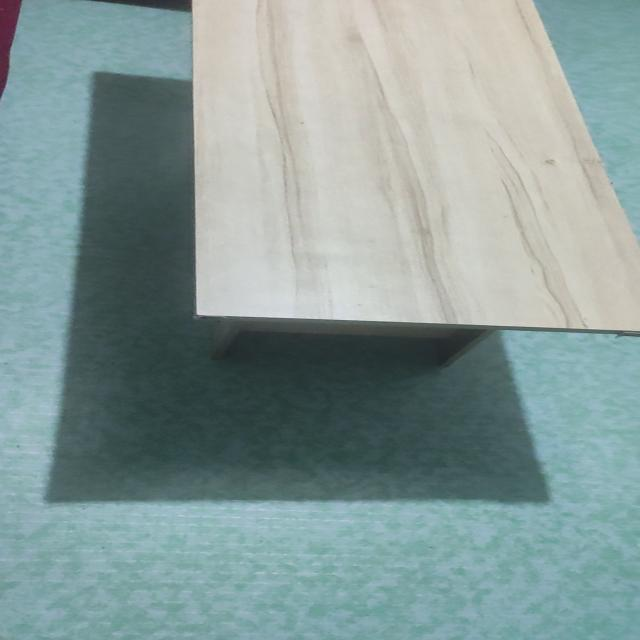table: (188, 0, 640, 381)
